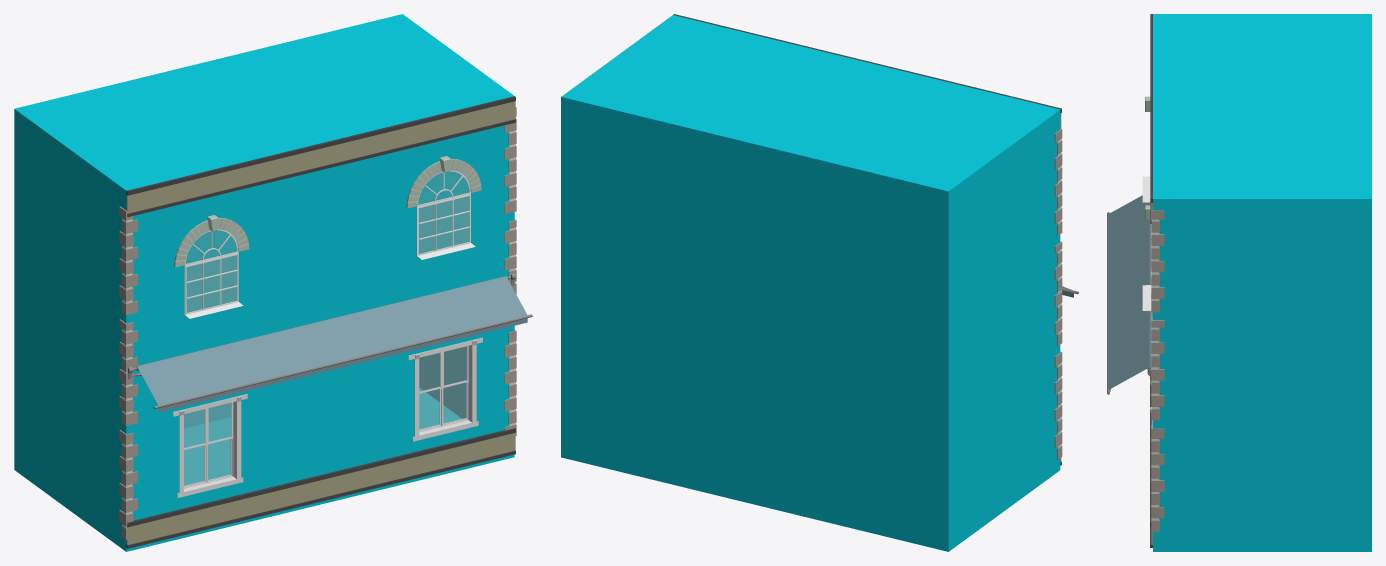
File: last_build_4.fbx
3 renders of one model, left to right at view 1: azimuth 30°, elevation 25°; view 2: azimuth 150°, elevation 25°; view 3: azimuth 270°, elevation 25°, orthographic. The views are drawn at different scales.
Parts seen in each view (by area): view 1: building_4; view 2: building_4; view 3: building_4.
Part boxes in pixels (bbox=[...]): building_4: bbox=[14, 14, 532, 551]; building_4: bbox=[561, 14, 1078, 551]; building_4: bbox=[1107, 14, 1371, 551].
Bounding box in the file's own units: 181 × 160 × 109.
